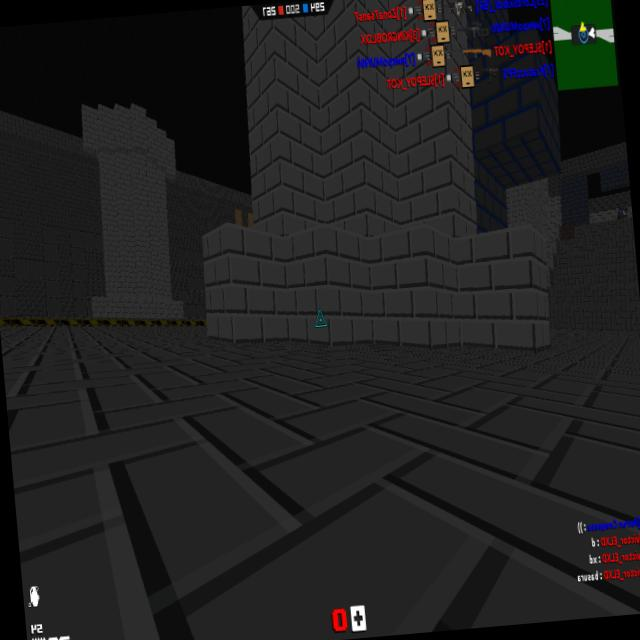enemy: (614, 204, 630, 221)
